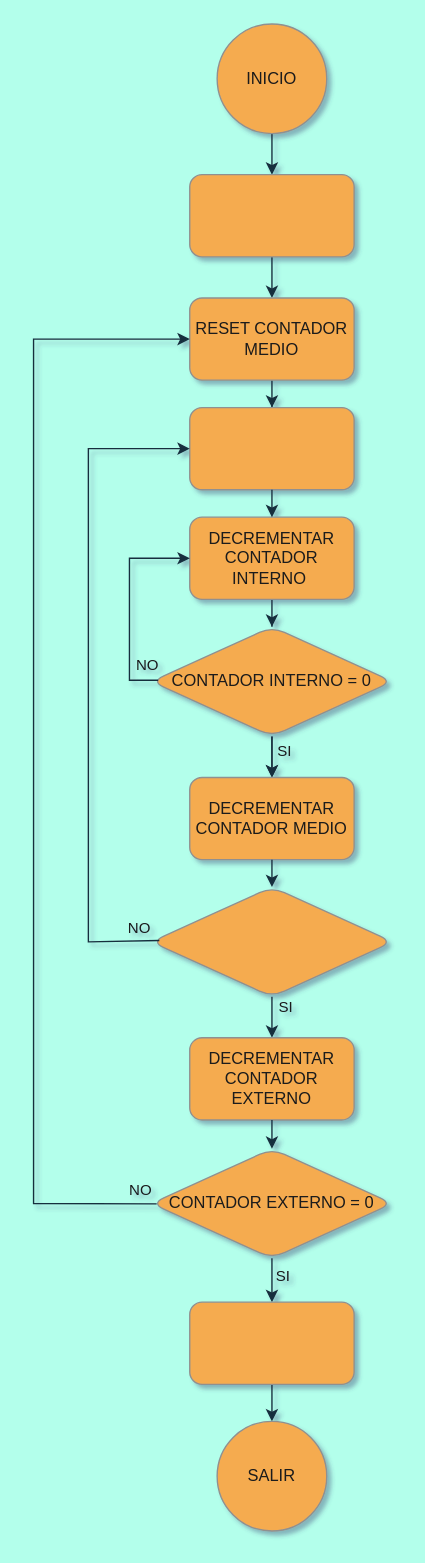
Some shapes in this 425 by 1563 pixel diagram are drawn without their labels. Here are the shapes that lost their labels. From the top down, the box of each, then its label:
(188, 173, 354, 257): RESET CONTADOR EXTERNO
(188, 406, 354, 490): RESET CONTADOR INTERNO
(150, 886, 393, 997): CONTADOR MEDIO = 0
(188, 1301, 354, 1384): RETURN
